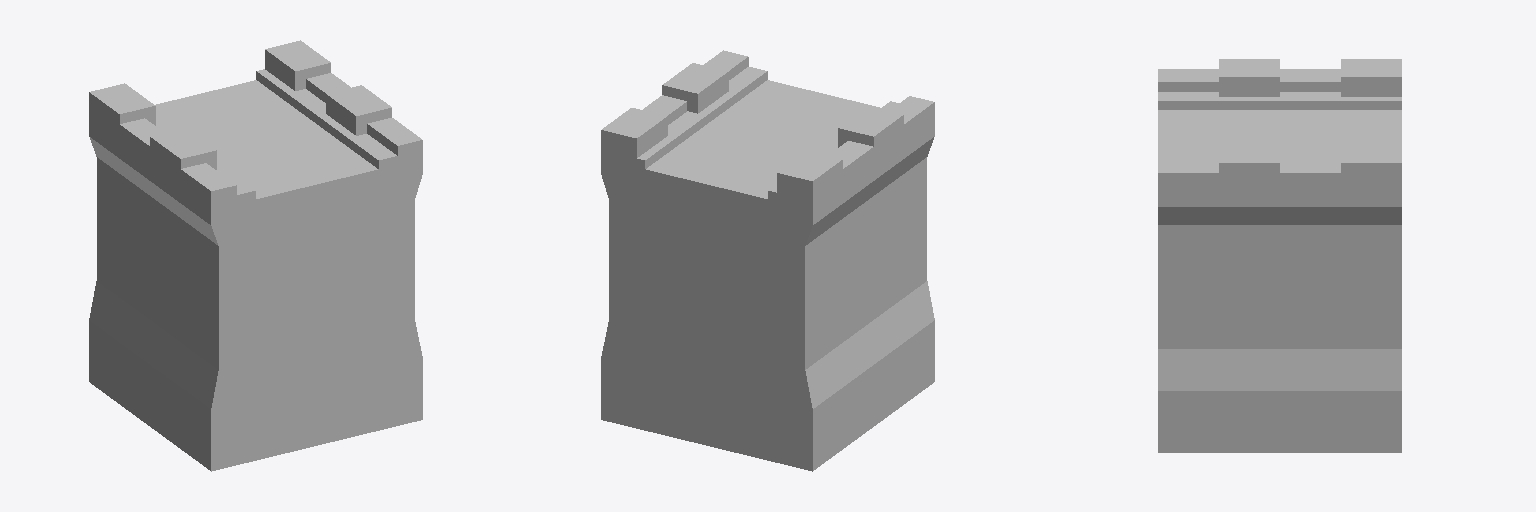
The model's file is wall.obj.
The picture shows the model from 3 angles: view 1: azimuth 30°, elevation 25°; view 2: azimuth 150°, elevation 25°; view 3: azimuth 270°, elevation 25°; orthographic projection.
Visible parts, largest first — view 1: wall; view 2: wall; view 3: wall.
Boxes of the visible parts, <box> form: wall: <box>89,40,422,471</box>; wall: <box>601,50,934,471</box>; wall: <box>1158,59,1401,452</box>.
Size of the model in its own units: 10 by 13.1 by 10.